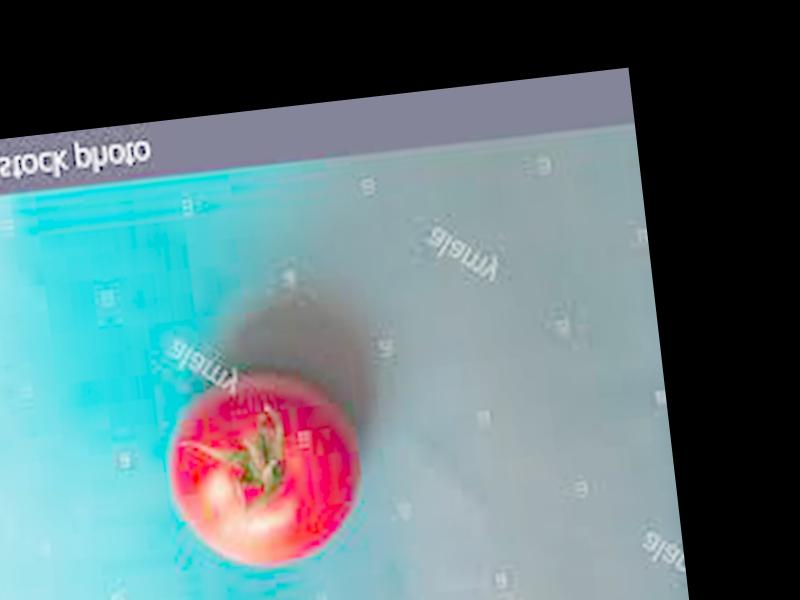Tomato: (161, 363, 368, 577)
